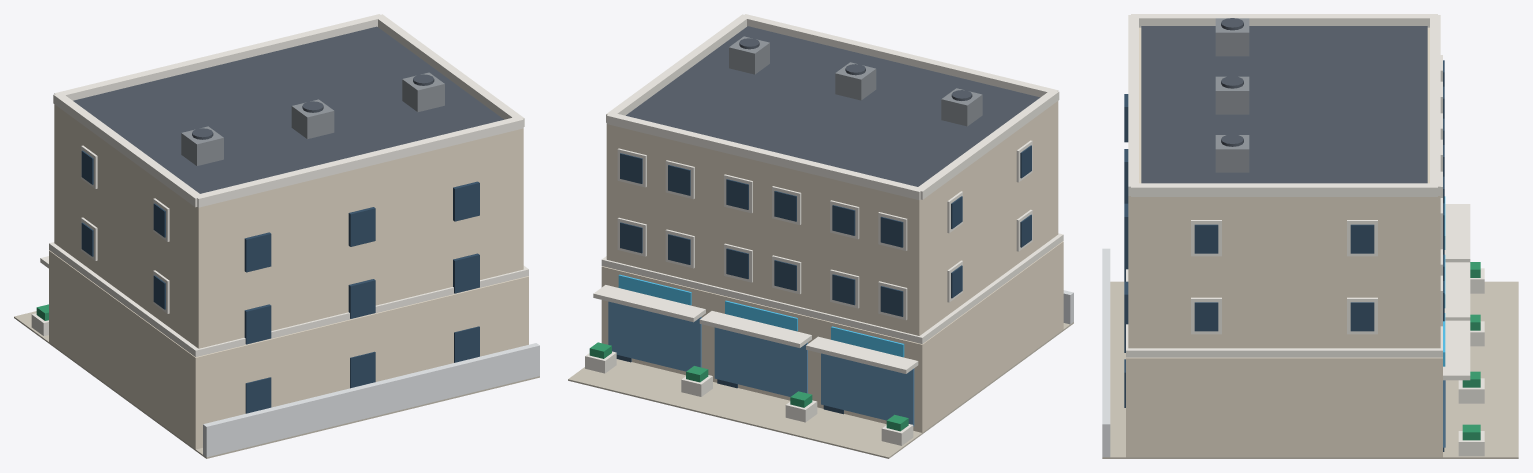
3 renders of one model, left to right at view 1: azimuth 30°, elevation 25°; view 2: azimuth 150°, elevation 25°; view 3: azimuth 270°, elevation 25°, orthographic. The views are drawn at different scales.
Parts seen in each view (by area): view 1: block, shop_base, roof, parapet (×4), yard_wall, window_glass (×9), string_course, ac_unit_body (×3), ground; view 2: block, roof, shop_base, storefront (×3), parapet (×4), ground, window_glass (×12), canopy (×3), string_course, ac_unit_body (×3), sign (×3), planter (×2); view 3: block, roof, shop_base, ground, parapet (×4), canopy (×3), ac_unit_body (×3), string_course, window_glass (×4), window_frame (×4), yard_wall, planter (×2).
Boxes of the visible parts, bbox=[...] form: block: bbox=[54, 104, 523, 348]; shop_base: bbox=[49, 250, 528, 449]; roof: bbox=[73, 26, 503, 193]; parapet (×4): bbox=[53, 14, 524, 207]; yard_wall: bbox=[203, 343, 539, 457]; window_glass (×9): bbox=[244, 181, 479, 413]; string_course: bbox=[49, 242, 528, 356]; ac_unit_body (×3): bbox=[181, 72, 444, 165]; ground: bbox=[14, 311, 539, 458]; block: bbox=[606, 101, 1058, 335]; roof: bbox=[626, 26, 1040, 186]; shop_base: bbox=[601, 241, 1063, 432]; storefront (×3): bbox=[608, 301, 914, 426]; parapet (×4): bbox=[606, 14, 1059, 200]; ground: bbox=[568, 322, 1073, 458]; window_glass (×12): bbox=[620, 153, 903, 316]; canopy (×3): bbox=[593, 285, 918, 373]; string_course: bbox=[601, 233, 1063, 343]; ac_unit_body (×3): bbox=[729, 36, 982, 126]; sign (×3): bbox=[618, 274, 904, 357]; planter (×2): bbox=[785, 400, 913, 445]; block: bbox=[1128, 27, 1440, 348]; roof: bbox=[1141, 26, 1427, 183]; shop_base: bbox=[1126, 357, 1442, 457]; ground: bbox=[1102, 281, 1518, 458]; parapet (×4): bbox=[1128, 14, 1440, 196]; canopy (×3): bbox=[1443, 204, 1470, 380]; ac_unit_body (×3): bbox=[1215, 18, 1249, 172]; string_course: bbox=[1126, 269, 1442, 357]; window_glass (×4): bbox=[1194, 224, 1374, 331]; window_frame (×4): bbox=[1191, 220, 1377, 334]; yard_wall: bbox=[1102, 248, 1110, 457]; planter (×2): bbox=[1458, 378, 1484, 456].
Size of the model in its own units: 16 by 12.31 by 16.
